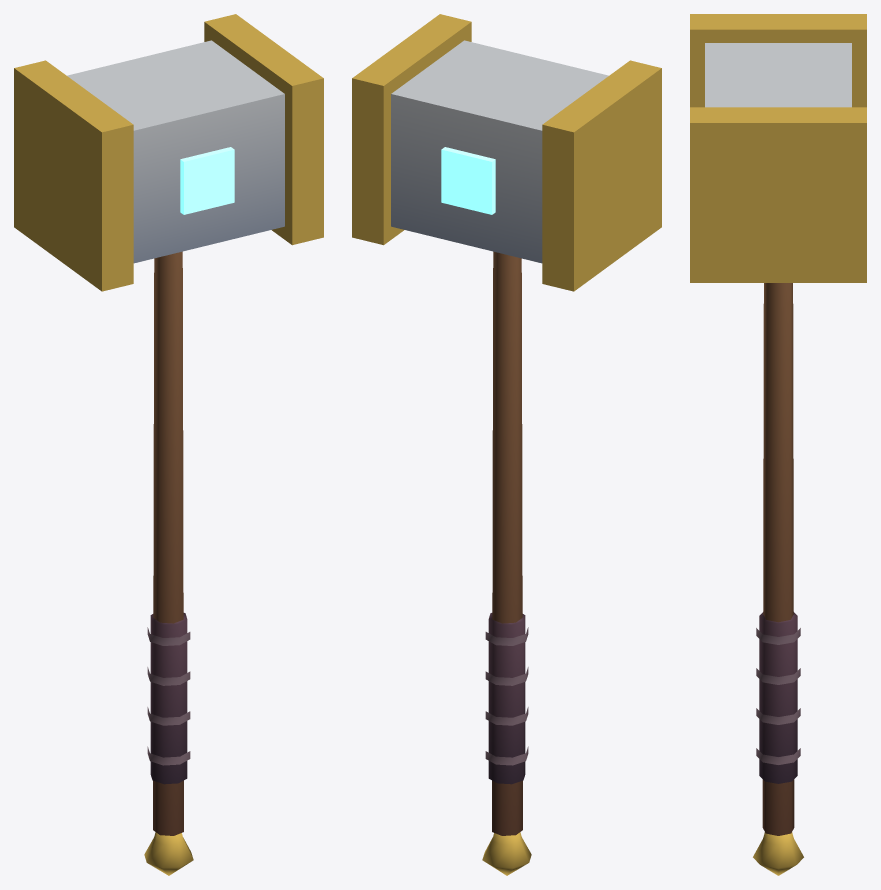
The model's file is warhammer.glb.
The picture shows the model from 3 angles, left to right: view 1: azimuth 30°, elevation 25°; view 2: azimuth 150°, elevation 25°; view 3: azimuth 270°, elevation 25°; orthographic projection.
Visible parts, largest first — view 1: warhammer; view 2: warhammer; view 3: warhammer.
Boxes of the visible parts, x1,y1,x2,y2 form: warhammer: (14,14,323,875); warhammer: (352,14,661,875); warhammer: (690,14,866,875).
Size of the model in its own units: 0.35 by 1.21 by 0.24.
